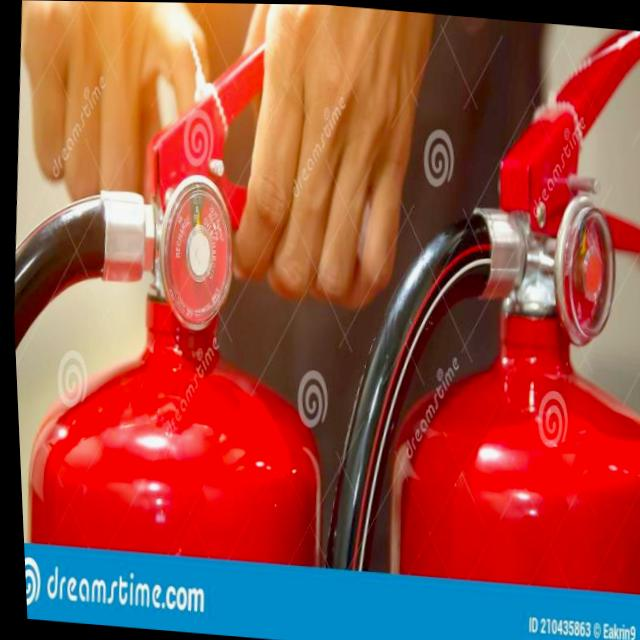FireExtinguisher: (0, 0, 364, 583), (295, 3, 640, 596)
